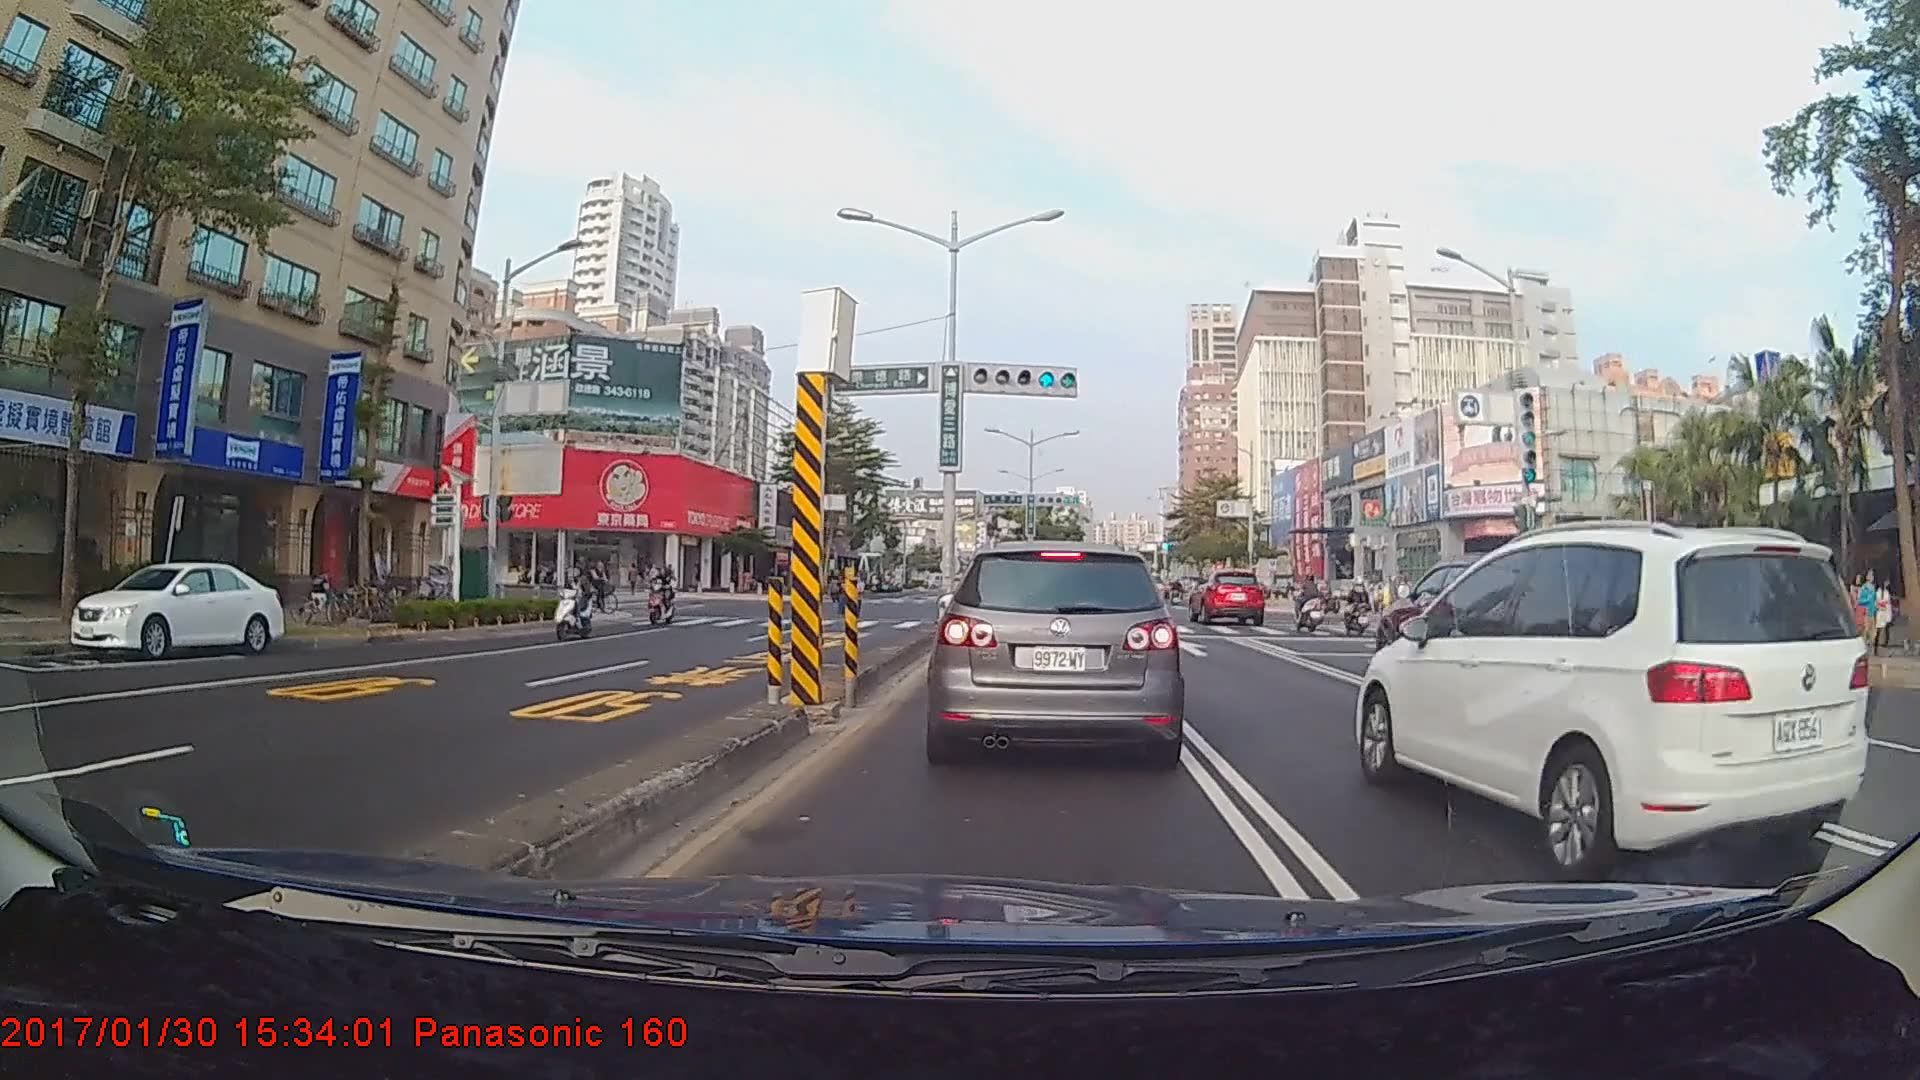pedestrian: (1844, 575, 1871, 658)
rider: (547, 562, 603, 646), (1335, 574, 1384, 634), (1288, 570, 1335, 629), (649, 568, 683, 629)
vehicle: (1353, 520, 1869, 881), (932, 536, 1183, 764), (70, 559, 282, 660), (1189, 568, 1266, 626)
